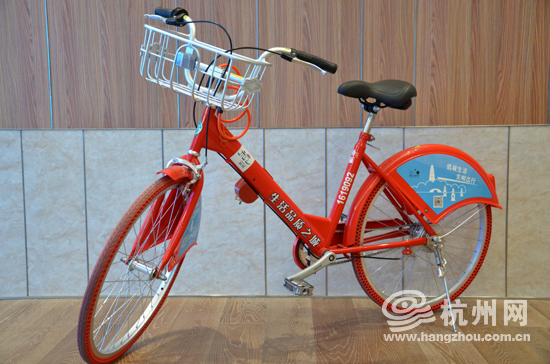MNV: (78, 10, 494, 364)
